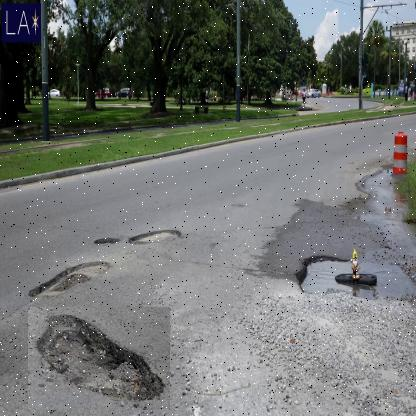pothole: (28, 308, 171, 412), (22, 247, 121, 314)
pothole_water: (292, 242, 415, 327)
